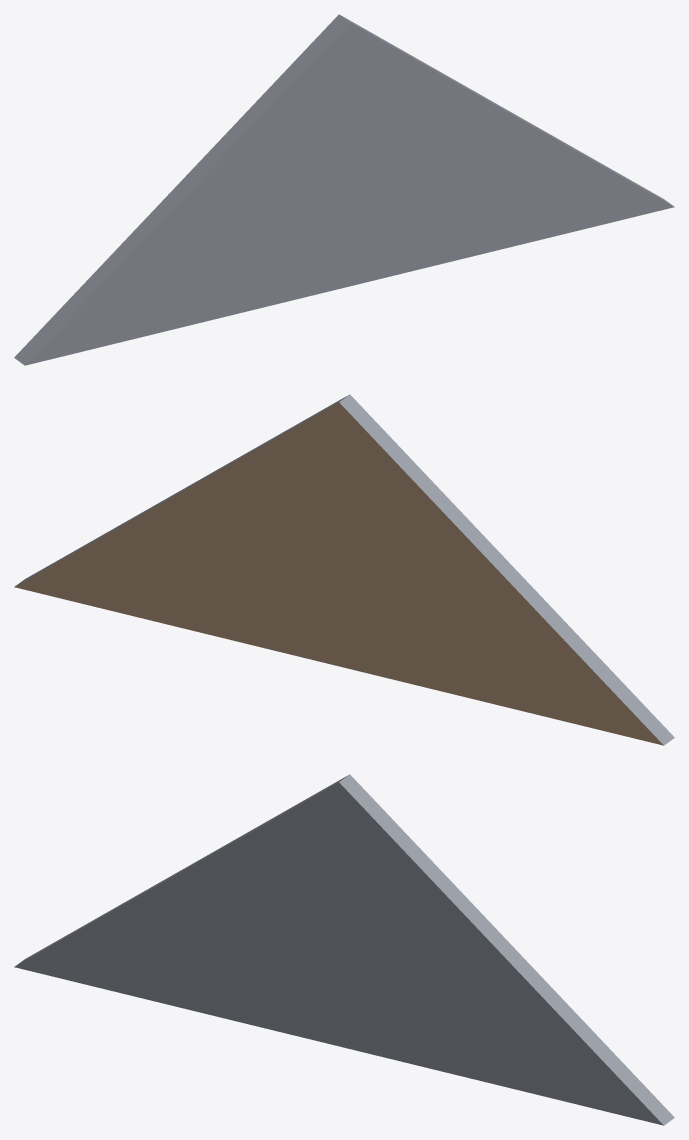
Rendered from Wall2_C6_16.fbx.
3 renders of one model, top to bottom at view 1: azimuth 30°, elevation 25°; view 2: azimuth 150°, elevation 25°; view 3: azimuth 330°, elevation 25°, orthographic.
Visible parts, largest first — view 1: Wall2_C6_16; view 2: Wall2_C6_16; view 3: Wall2_C6_16.
Part boxes in pixels (left/top/right/bottom): Wall2_C6_16: left=14, top=14, right=674, bottom=365; Wall2_C6_16: left=14, top=394, right=674, bottom=745; Wall2_C6_16: left=14, top=774, right=674, bottom=1125.
Bounding box in the file's own units: 515 × 200 × 15.
